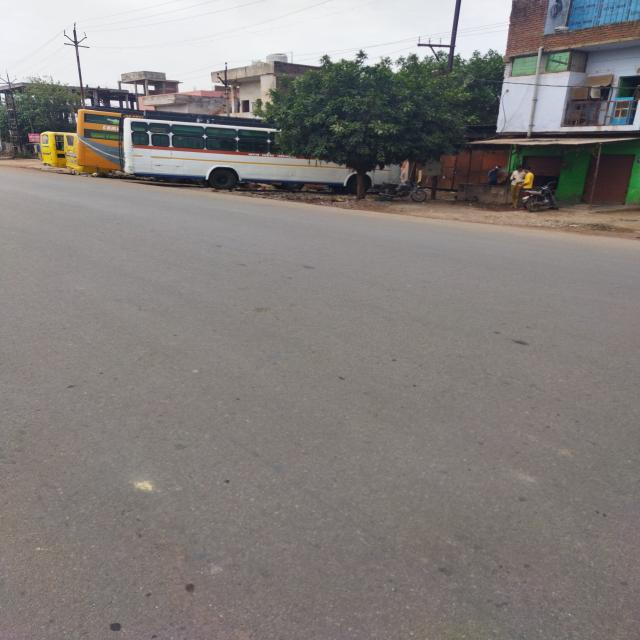Bus: (40, 108, 357, 191), (363, 165, 400, 189)
Two Wheeler: (378, 179, 427, 202)
